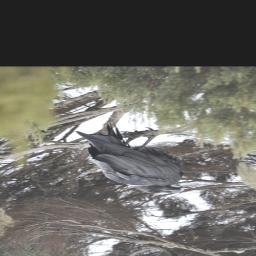Crow: (76, 121, 184, 195)
